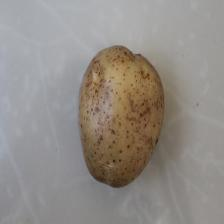Diseased-fungal potato: (76, 42, 165, 192)
